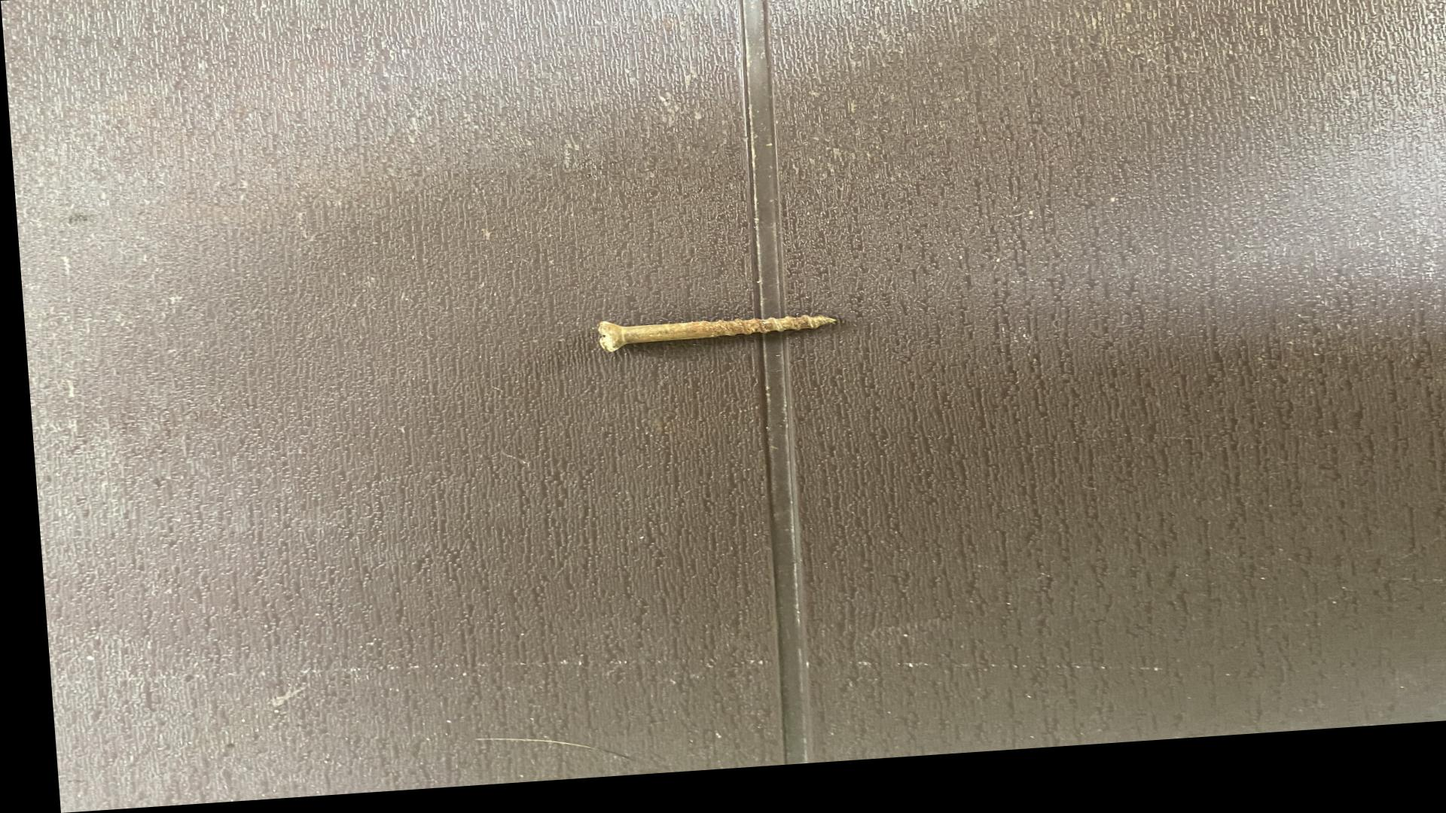screw: (570, 304, 850, 374)
